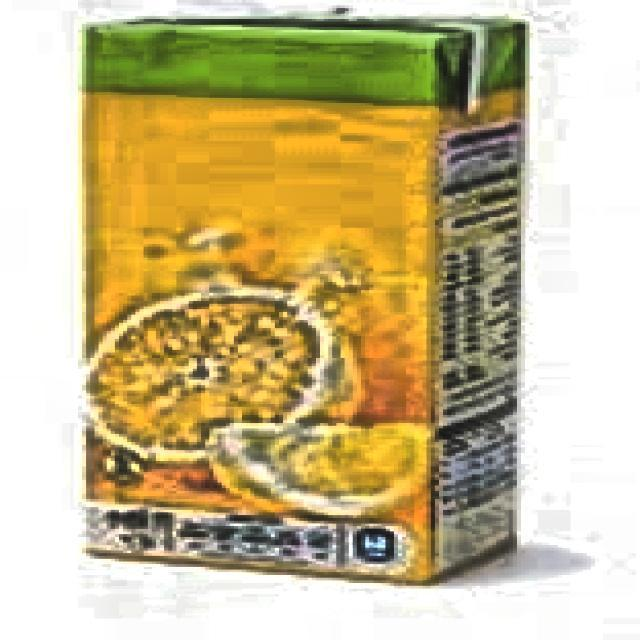cardboard: (78, 8, 534, 583)
